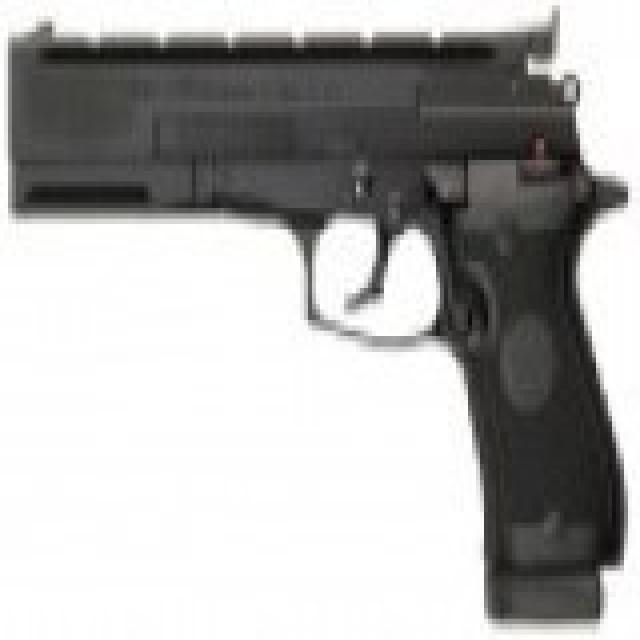Gun: (8, 11, 636, 608)
